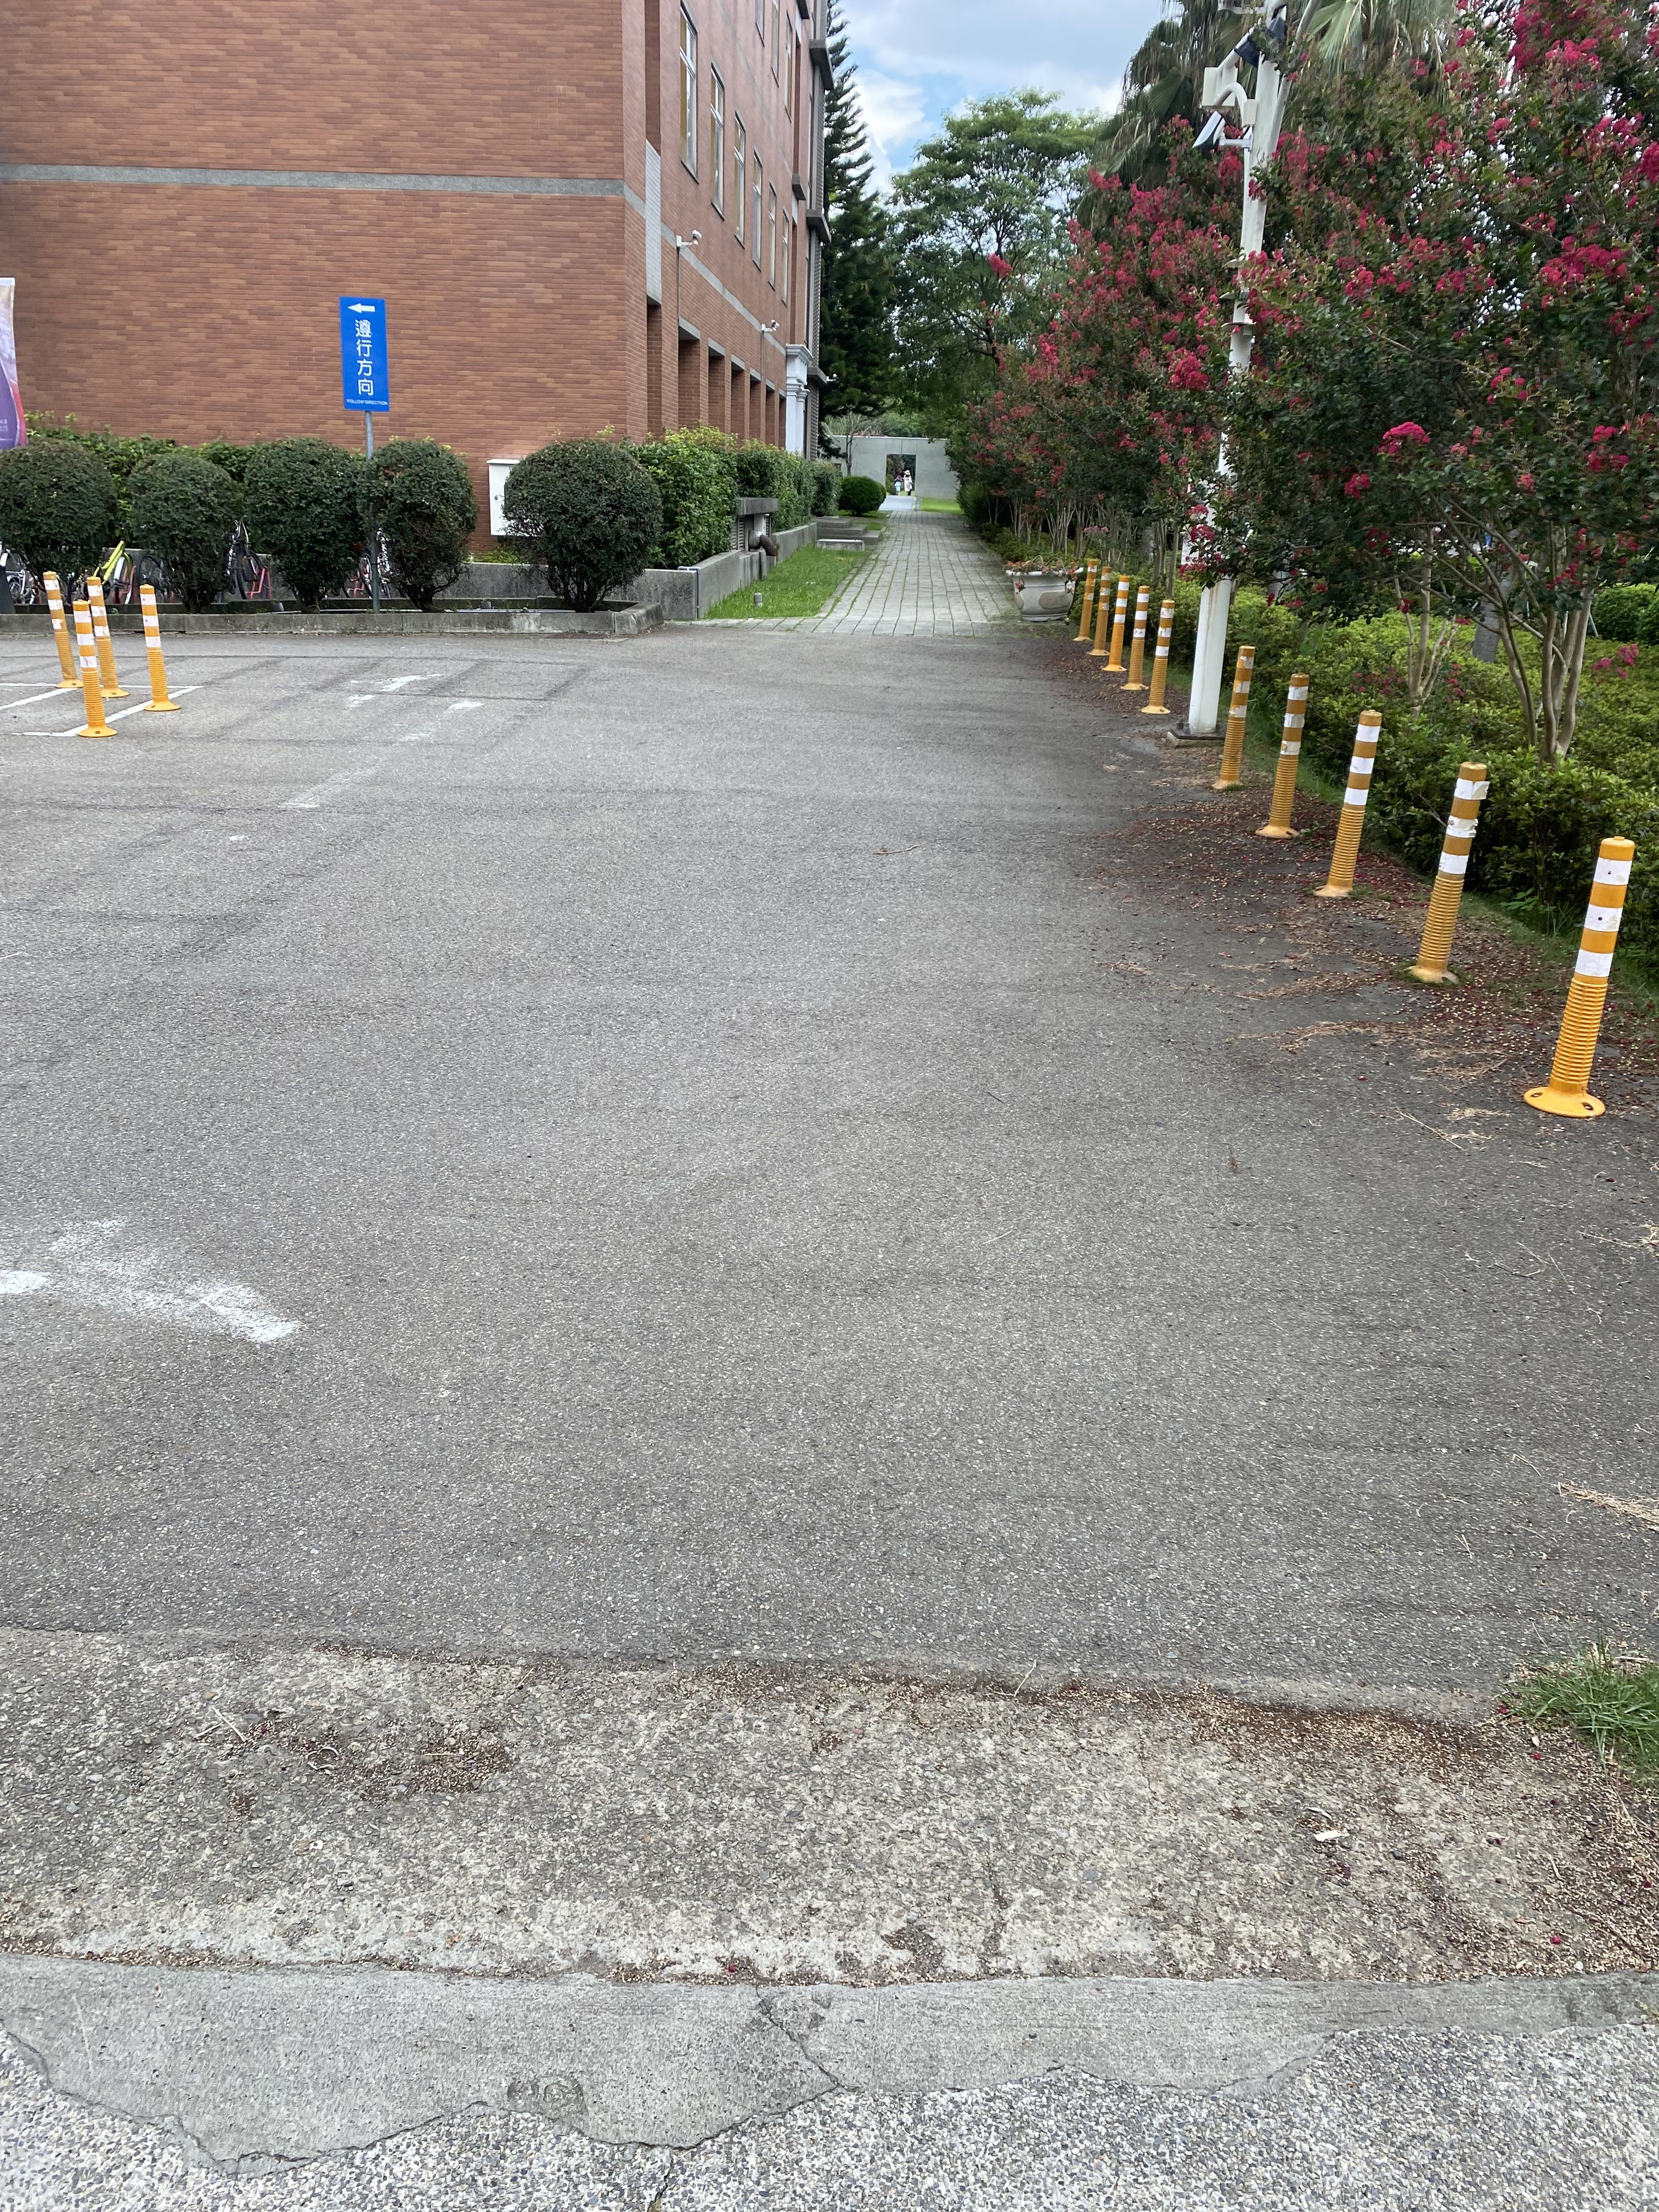0: (749, 437, 1105, 683)
sidewalk: (186, 627, 1654, 2212)
